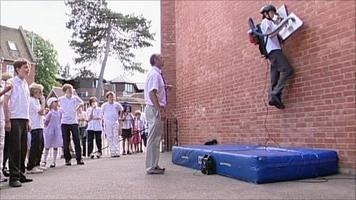person: (248, 6, 294, 110)
